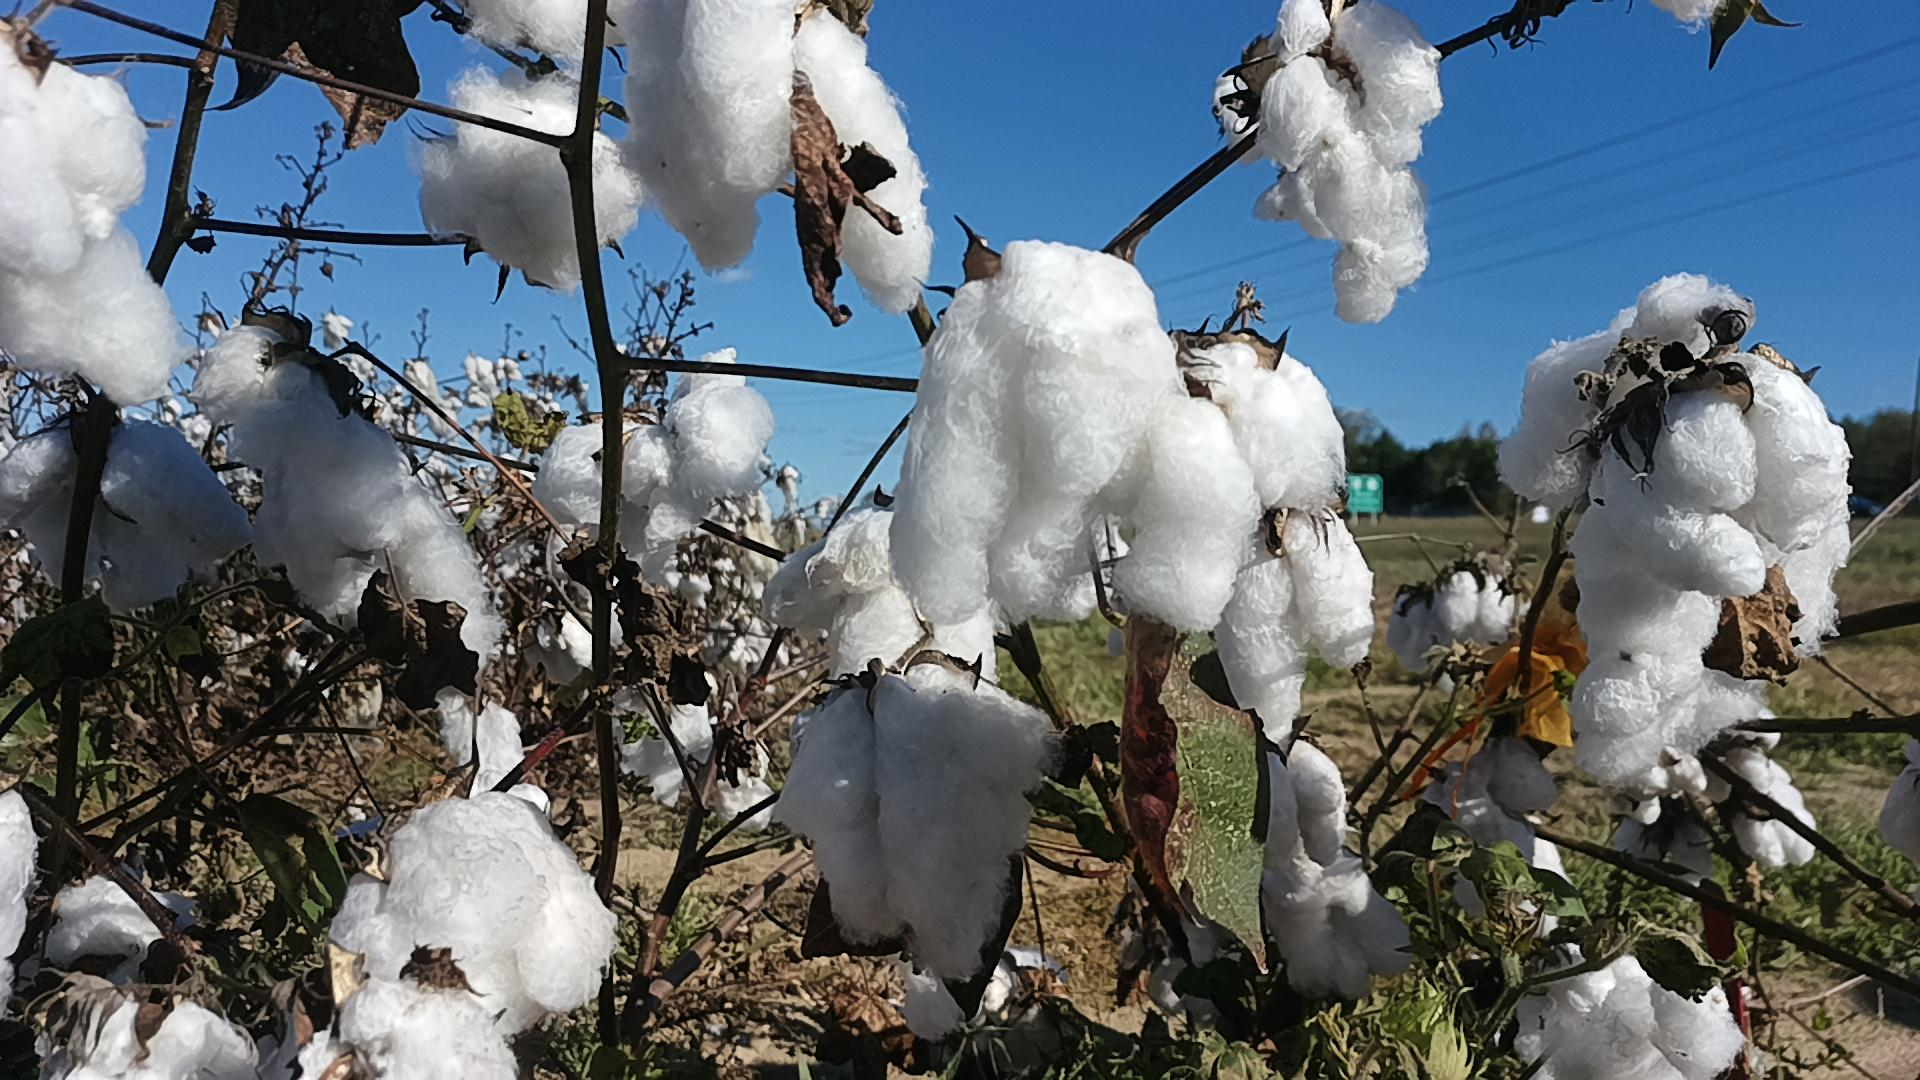cotton_ready: (884, 240, 1178, 625), (612, 0, 930, 313), (774, 675, 1060, 981), (1574, 355, 1848, 655), (0, 23, 188, 401), (332, 798, 621, 1037), (1492, 268, 1756, 511), (194, 326, 408, 613), (1262, 0, 1446, 327), (416, 66, 646, 291), (3, 416, 246, 617), (760, 505, 996, 687), (1098, 386, 1258, 635), (1212, 511, 1378, 743), (320, 466, 508, 665), (1500, 945, 1738, 1080), (533, 413, 705, 585), (1572, 643, 1758, 785), (1192, 346, 1351, 511), (272, 978, 520, 1080), (1258, 858, 1410, 997), (52, 876, 208, 999), (1430, 738, 1566, 877), (1451, 834, 1592, 965), (666, 346, 778, 505), (54, 995, 258, 1080), (898, 945, 1048, 1045), (608, 674, 720, 806), (1752, 520, 1855, 659), (434, 698, 556, 813), (456, 0, 617, 86), (1390, 570, 1523, 673), (1718, 756, 1823, 867), (507, 590, 628, 683), (1262, 738, 1348, 865), (1602, 808, 1710, 909), (1142, 922, 1238, 1014), (0, 785, 38, 1009), (1042, 530, 1128, 627), (1870, 720, 1920, 865), (702, 744, 780, 835), (1614, 750, 1706, 824), (1210, 63, 1268, 165), (1664, 0, 1738, 26)
